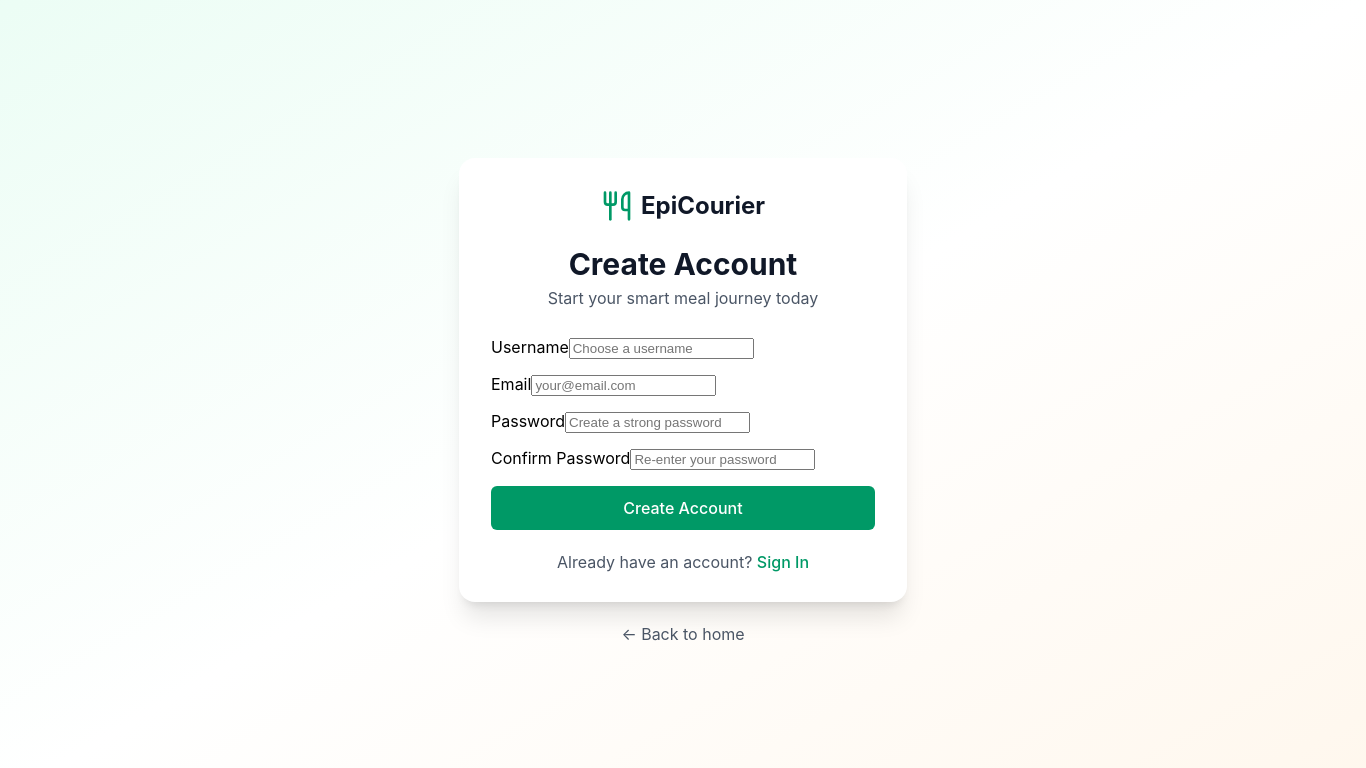
✅ SignUp Component (stable tests) › shows required field errors
This screenshot has width=1366, height=768.
What coordinates should you click on to do the following:
click the button "Create Account"
I would click on:
 (683, 508)
Its box is left=491, top=486, right=875, bottom=530.
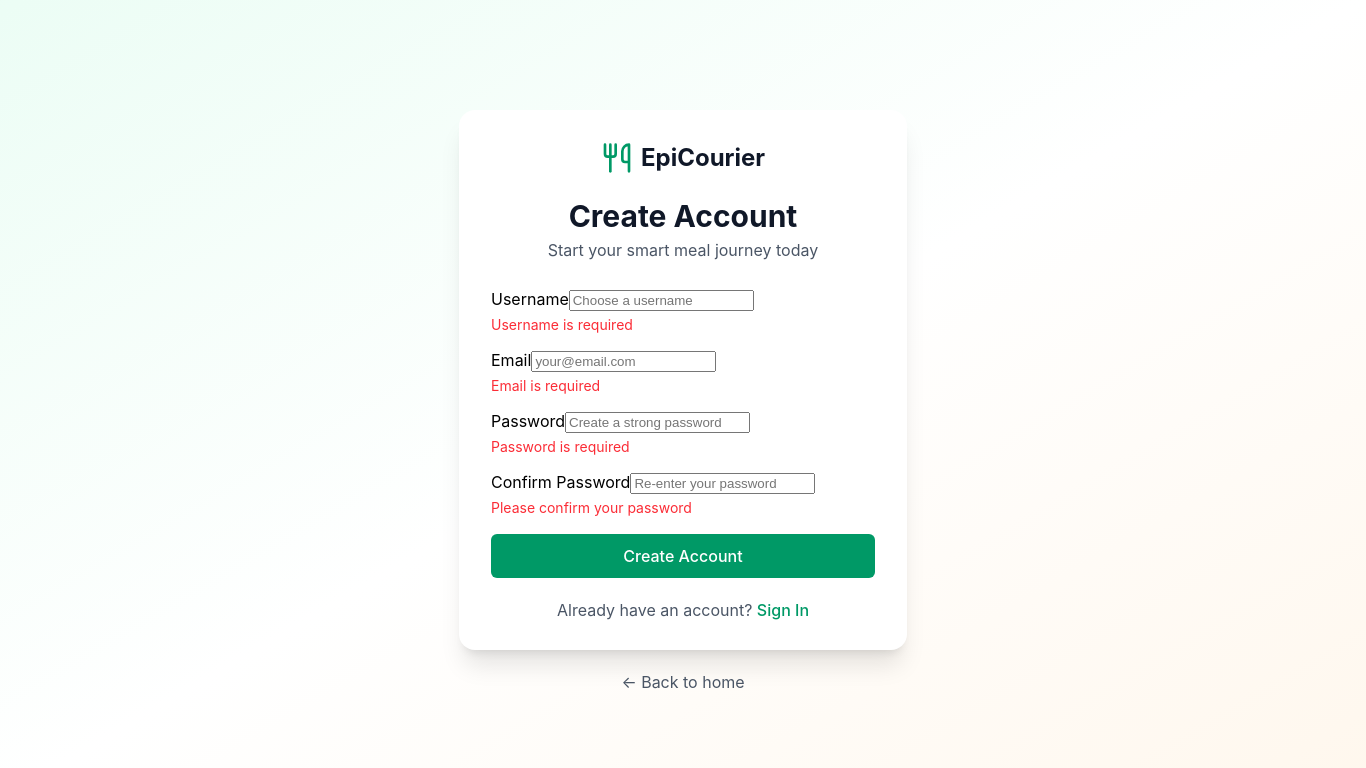
Now the text "Username is required" is shown, box left=491, top=316, right=633, bottom=333
Now the text "Email is required" is shown, box left=491, top=377, right=600, bottom=394
Now the text "Password is required" is shown, box left=491, top=438, right=630, bottom=455
